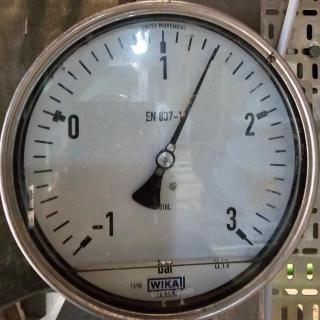gauge: (0, 0, 320, 320), (70, 220, 104, 260), (224, 214, 254, 248), (155, 149, 176, 170), (211, 43, 221, 55)
